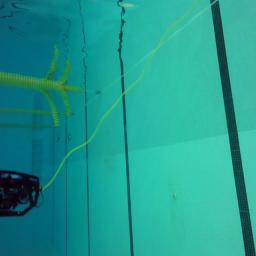Side: (0, 170, 41, 217)
